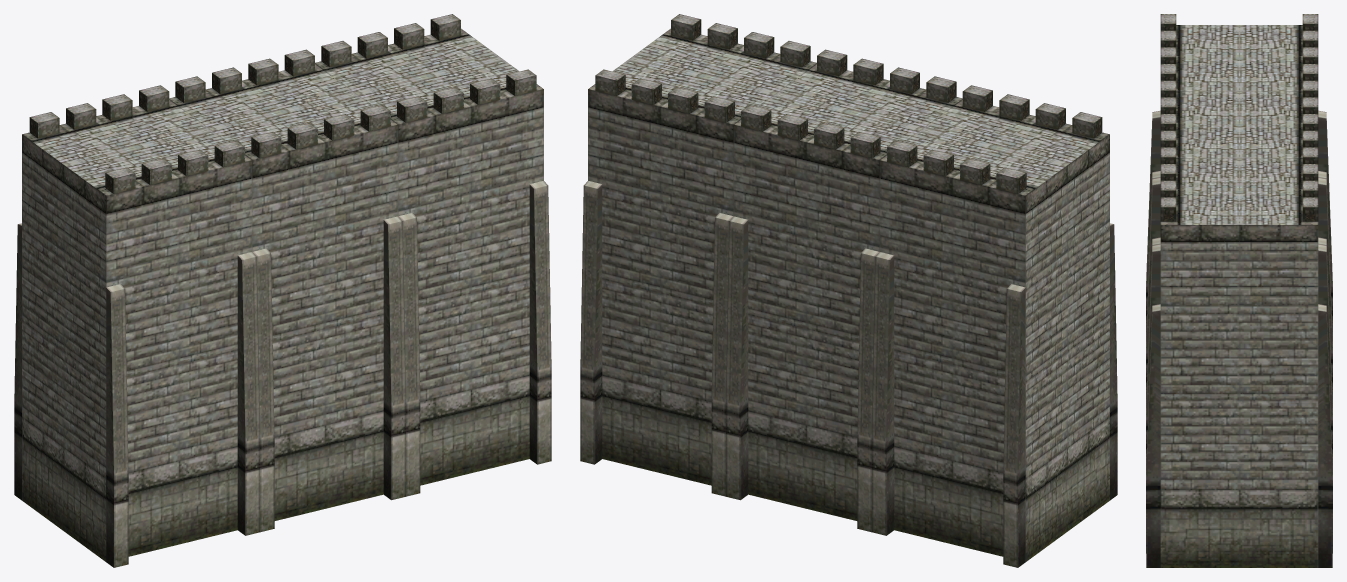
Rendered from b1-bigdam-04.glb.
The picture shows the model from 3 angles, left to right: view 1: azimuth 30°, elevation 25°; view 2: azimuth 150°, elevation 25°; view 3: azimuth 270°, elevation 25°; orthographic projection. The views are drawn at different scales.
Visible parts, largest first — view 1: b1-bigdam-04; view 2: b1-bigdam-04; view 3: b1-bigdam-04.
Part boxes in pixels (x1,y1,x2,y2): b1-bigdam-04: (14,14,551,567); b1-bigdam-04: (580,14,1117,567); b1-bigdam-04: (1146,14,1332,567).
Size of the model in its own units: 30 by 25 by 11.84.
Materials: 1 (1 with a texture image).
